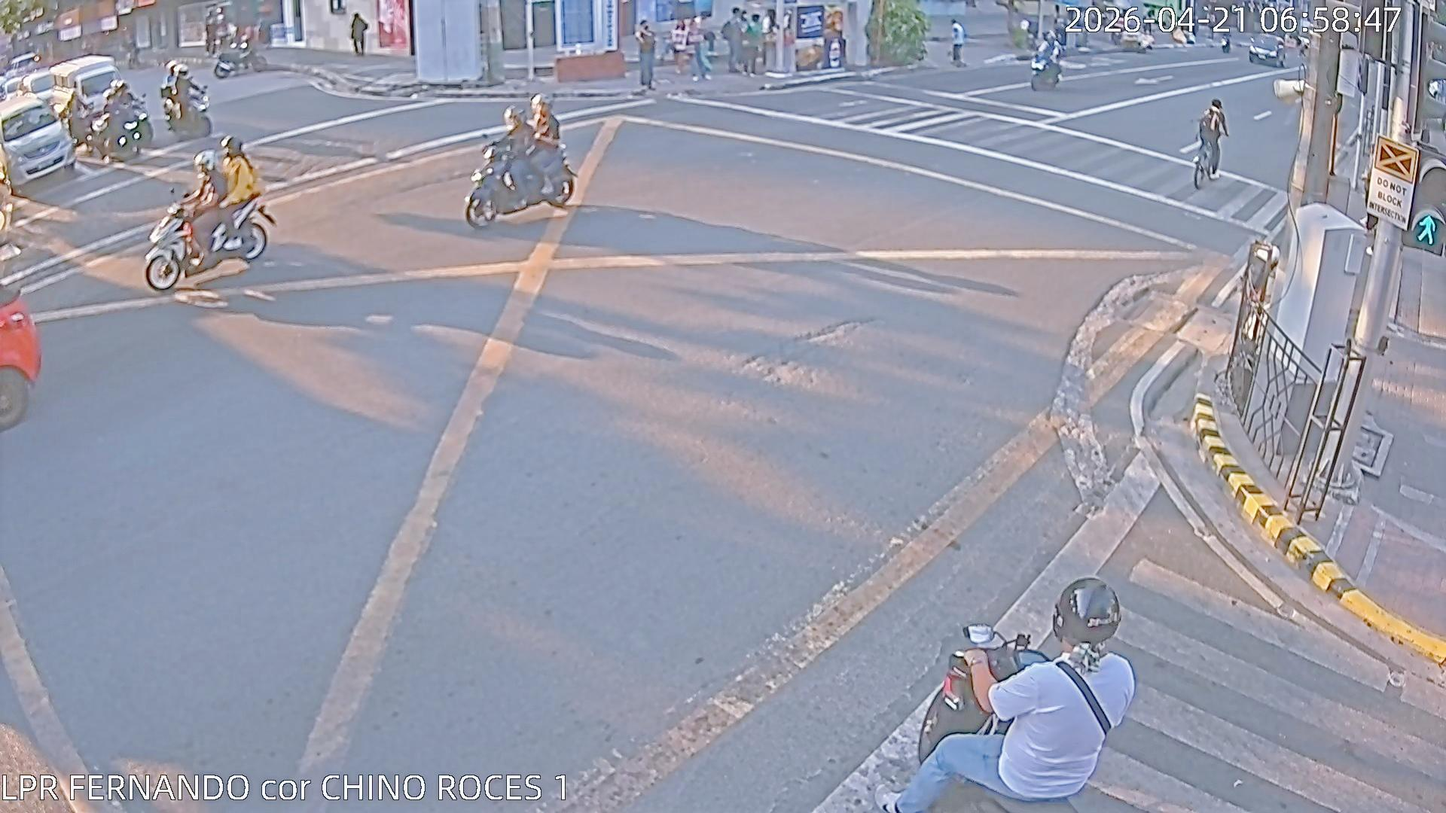Car: (0, 93, 75, 193), (51, 54, 131, 114), (18, 69, 61, 107), (1248, 32, 1288, 68), (0, 75, 26, 99)
Motor: (144, 182, 274, 291), (463, 133, 580, 230), (82, 94, 153, 161), (160, 74, 212, 138), (1029, 29, 1069, 97), (213, 38, 269, 78), (65, 91, 101, 149), (1220, 30, 1232, 54)
